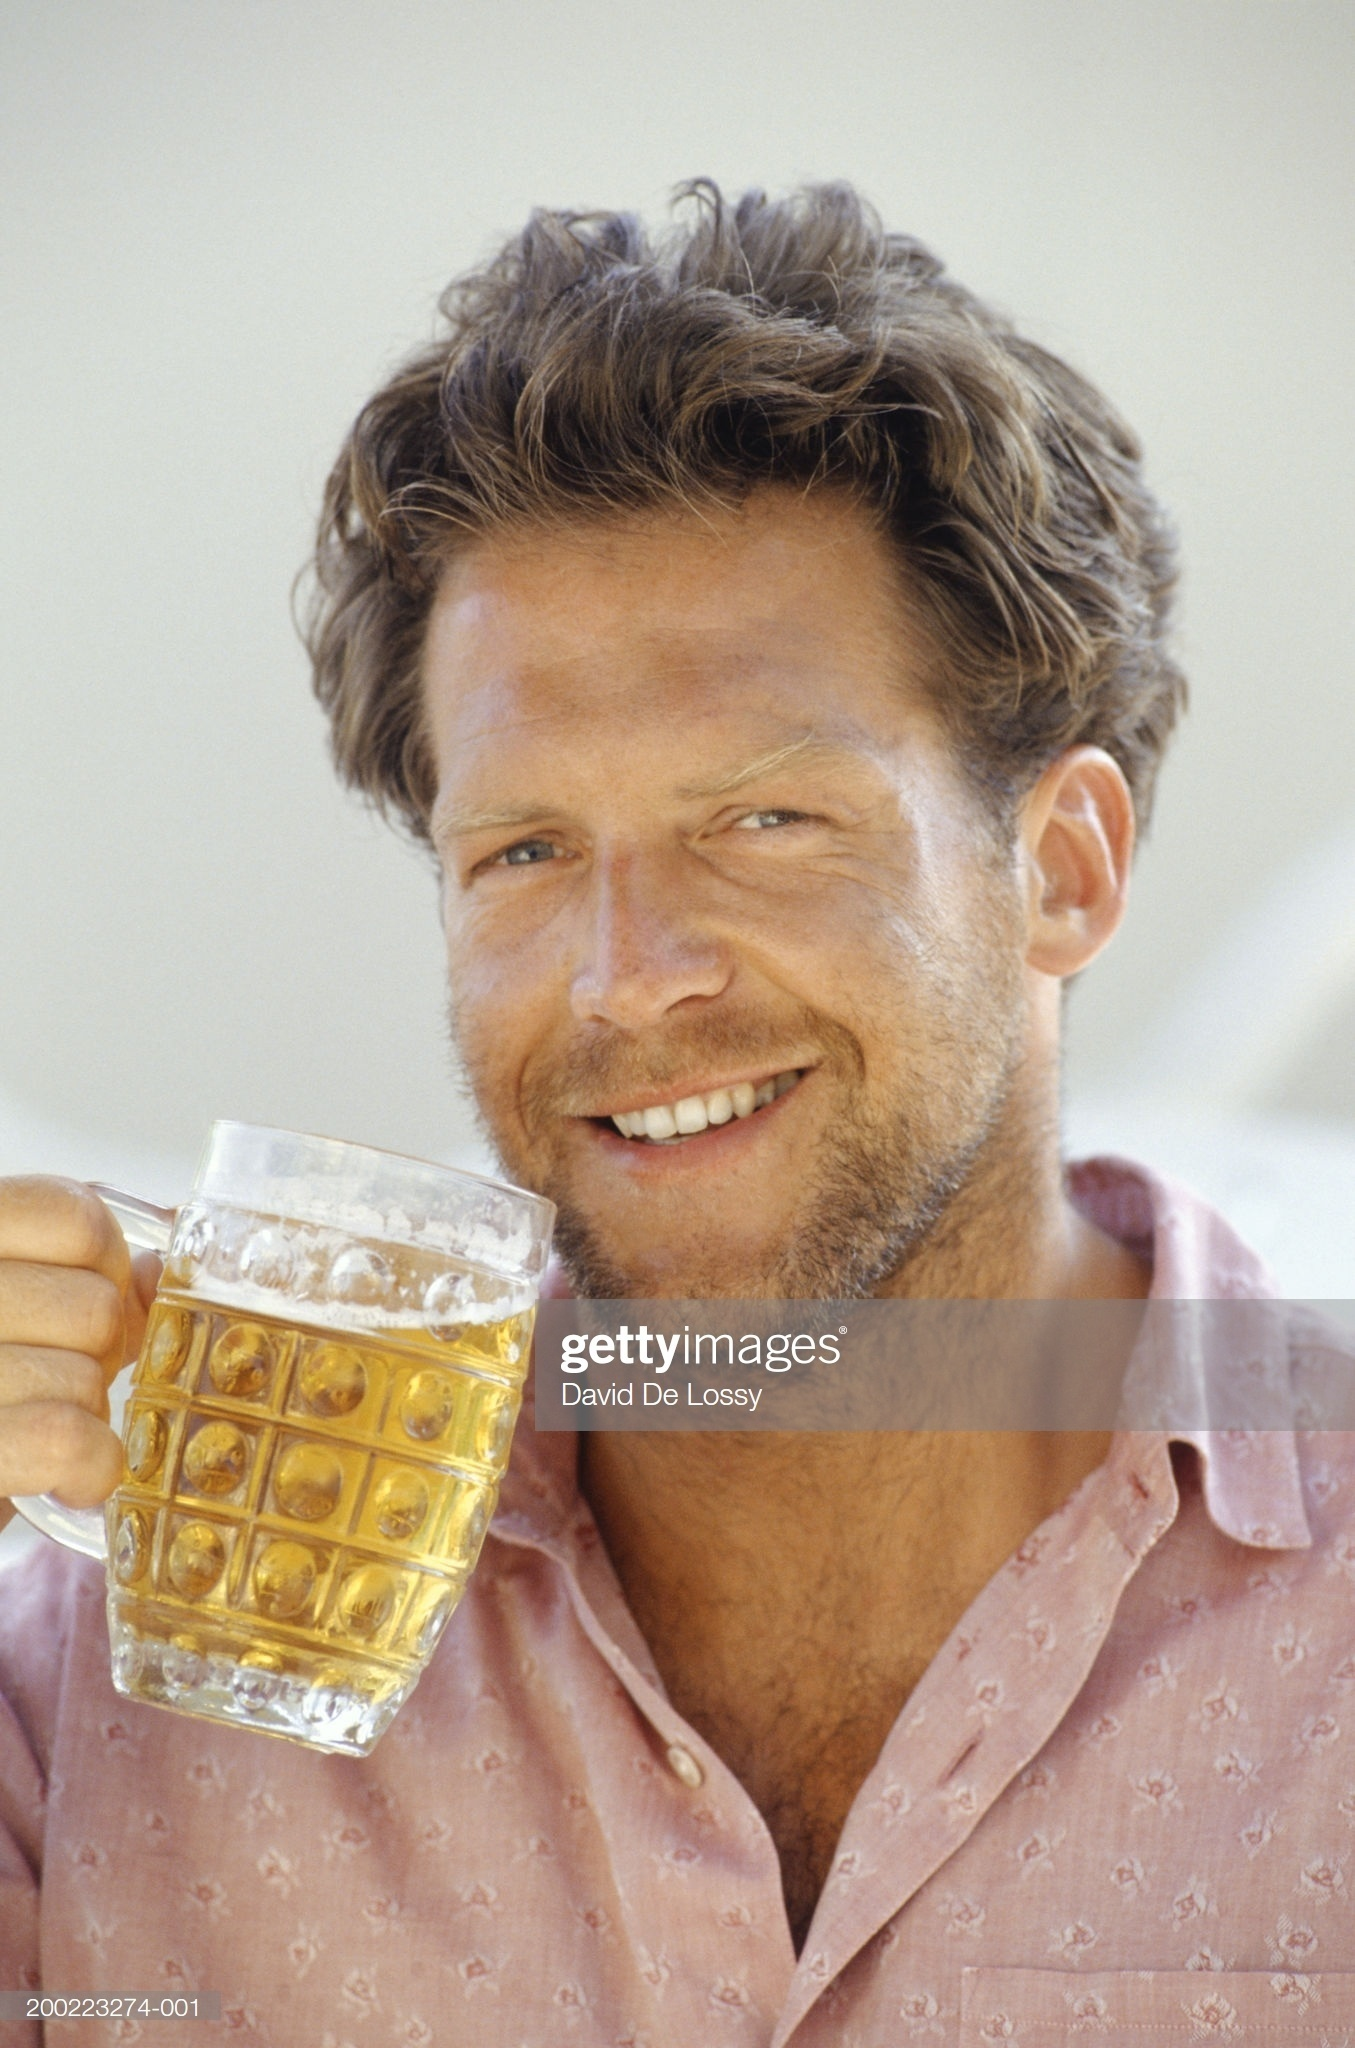whiskey: (70, 1155, 563, 1746)
